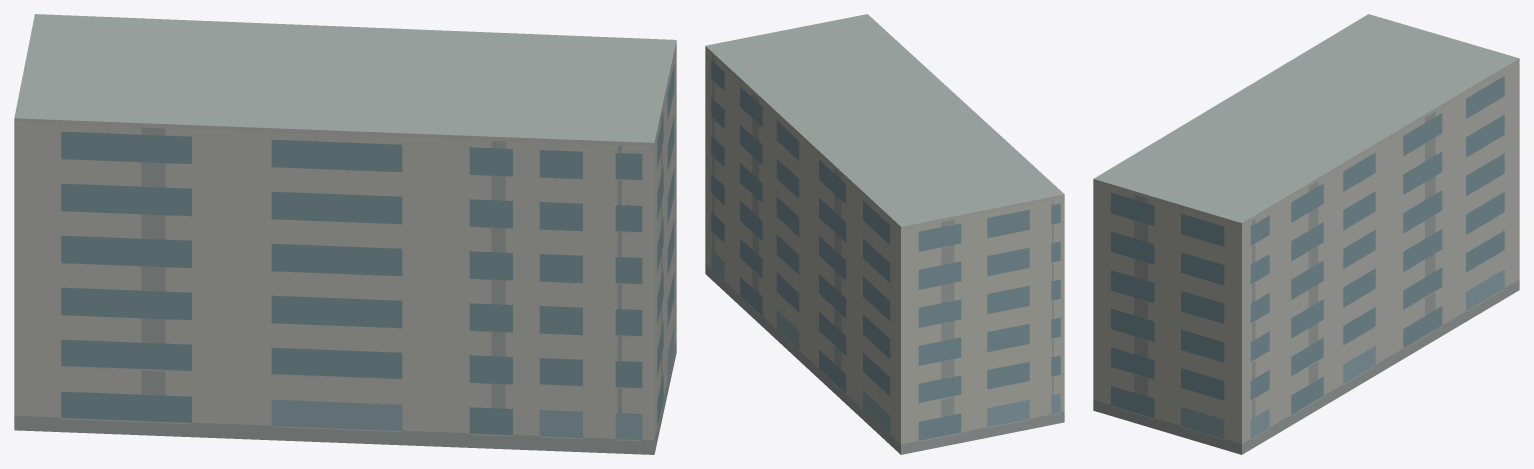
The model's file is survey-upis-32702493.glb.
3 views of the same model, side by side, from view 1: azimuth 30°, elevation 25°; view 2: azimuth 150°, elevation 25°; view 3: azimuth 270°, elevation 25° (orthographic). The views are drawn at different scales.
Parts seen in each view (by area): view 1: survey-upis-32702493.tmp; view 2: survey-upis-32702493.tmp; view 3: survey-upis-32702493.tmp.
Part boxes in pixels (left/top/right/bottom): survey-upis-32702493.tmp: left=14, top=14, right=676, bottom=454; survey-upis-32702493.tmp: left=705, top=14, right=1064, bottom=454; survey-upis-32702493.tmp: left=1093, top=14, right=1519, bottom=454.
Bounding box in the file's own units: 32.68 × 16.88 × 28.14.
